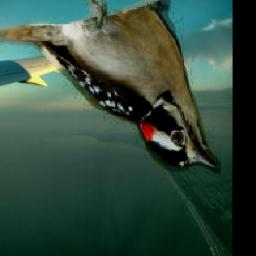Woodpecker: (0, 0, 221, 181)
